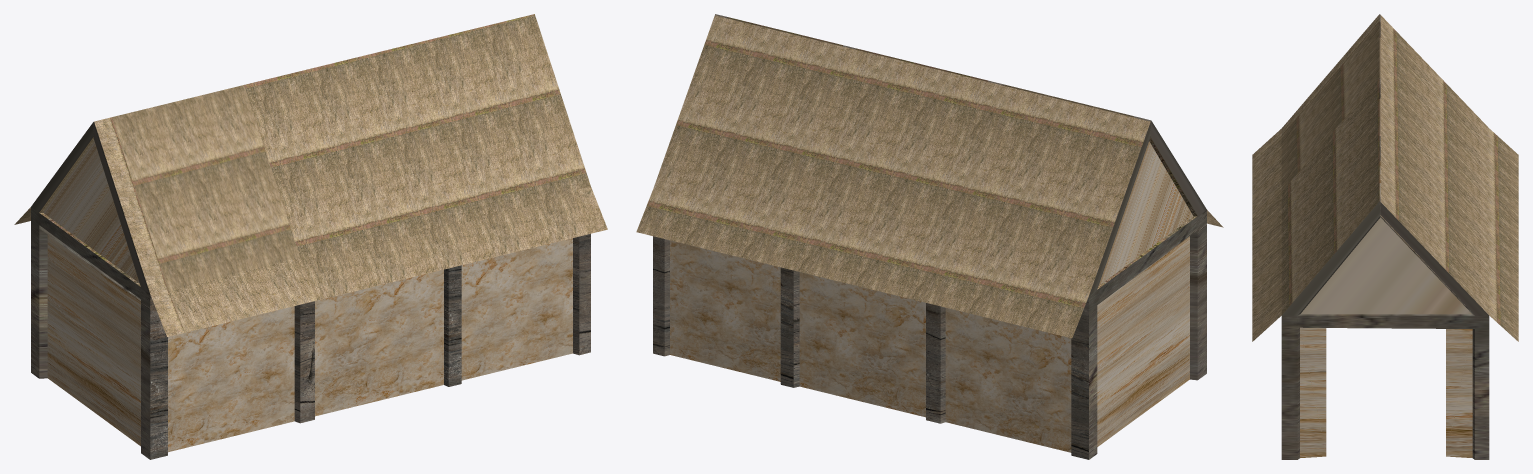
Rendered from simple_house_1.glb.
The picture shows the model from 3 angles, left to right: view 1: azimuth 30°, elevation 25°; view 2: azimuth 150°, elevation 25°; view 3: azimuth 270°, elevation 25°; orthographic projection. The views are drawn at different scales.
Visible parts, largest first — view 1: Cube; view 2: Cube; view 3: Cube.
Part boxes in pixels (<box>): Cube: <box>14,14,607,459</box>; Cube: <box>636,14,1223,459</box>; Cube: <box>1252,14,1518,459</box>.
Bounding box in the file's own units: 15.01 × 9.67 × 9.03.
Materials: 3 (3 with a texture image).
